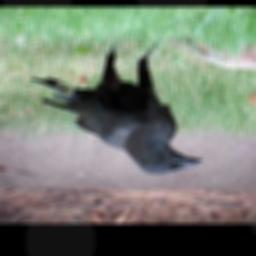Crow: (30, 40, 205, 176)
